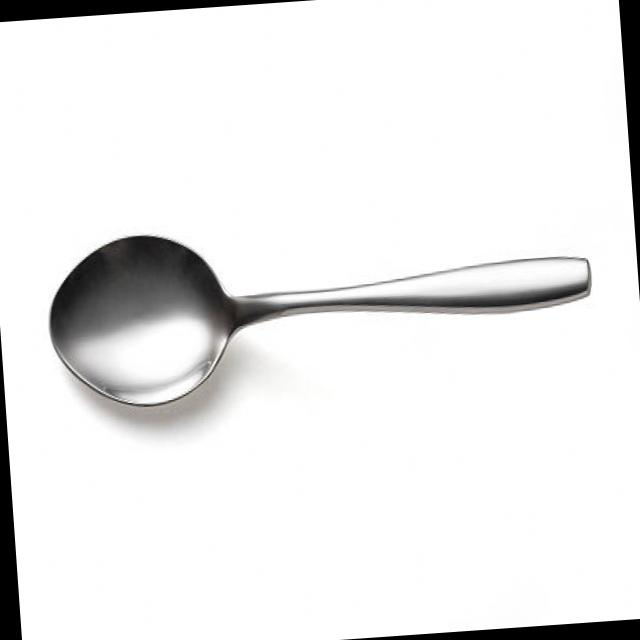spoon: (34, 197, 610, 426)
